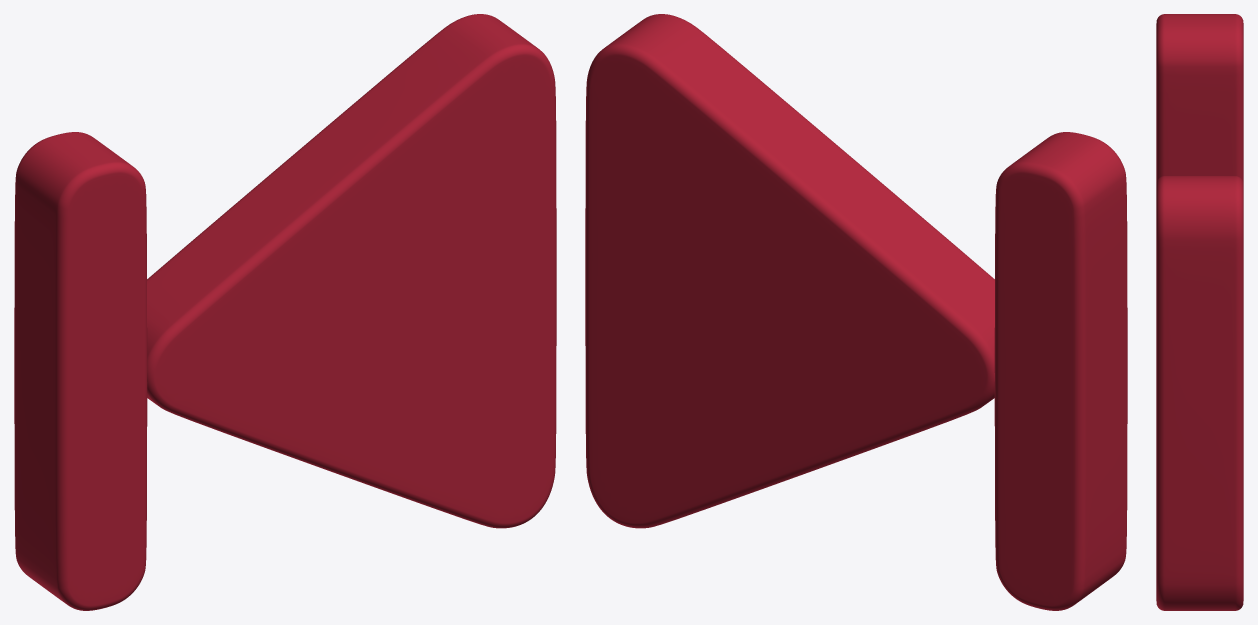
Rendered from back.fbx.
3 views of the same model, side by side, from view 1: azimuth 30°, elevation 25°; view 2: azimuth 150°, elevation 25°; view 3: azimuth 270°, elevation 25° (orthographic). The views are drawn at different scales.
Parts seen in each view (by area): view 1: Back; view 2: Back; view 3: Back.
Boxes of the visible parts, x1=… form: Back: x1=14, y1=14, x2=556, y2=610; Back: x1=585, y1=14, x2=1127, y2=610; Back: x1=1156, y1=14, x2=1243, y2=610.
Bounding box in the file's own units: 175 × 161 × 30.
